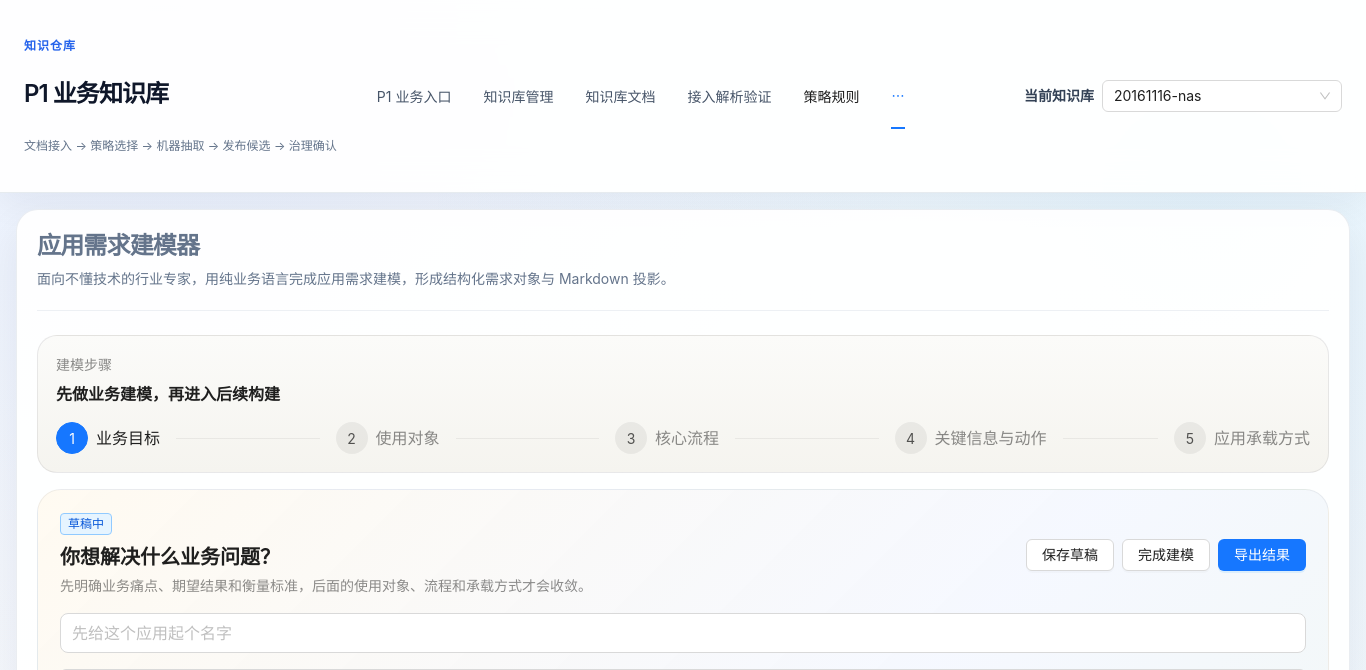
Test case: renders application modeler, switches steps, saves draft, and exports markdown
The width and height of the screenshot is (1366, 670).
Expected: the heading "应用需求建模器" is shown, [37, 231, 199, 260]
Expected: the text "业务目标" is shown, [96, 422, 176, 454]
Type "审批协同应用" into the field with placeholder "先给这个应用起个名字" at (683, 633), box [60, 613, 1306, 653]
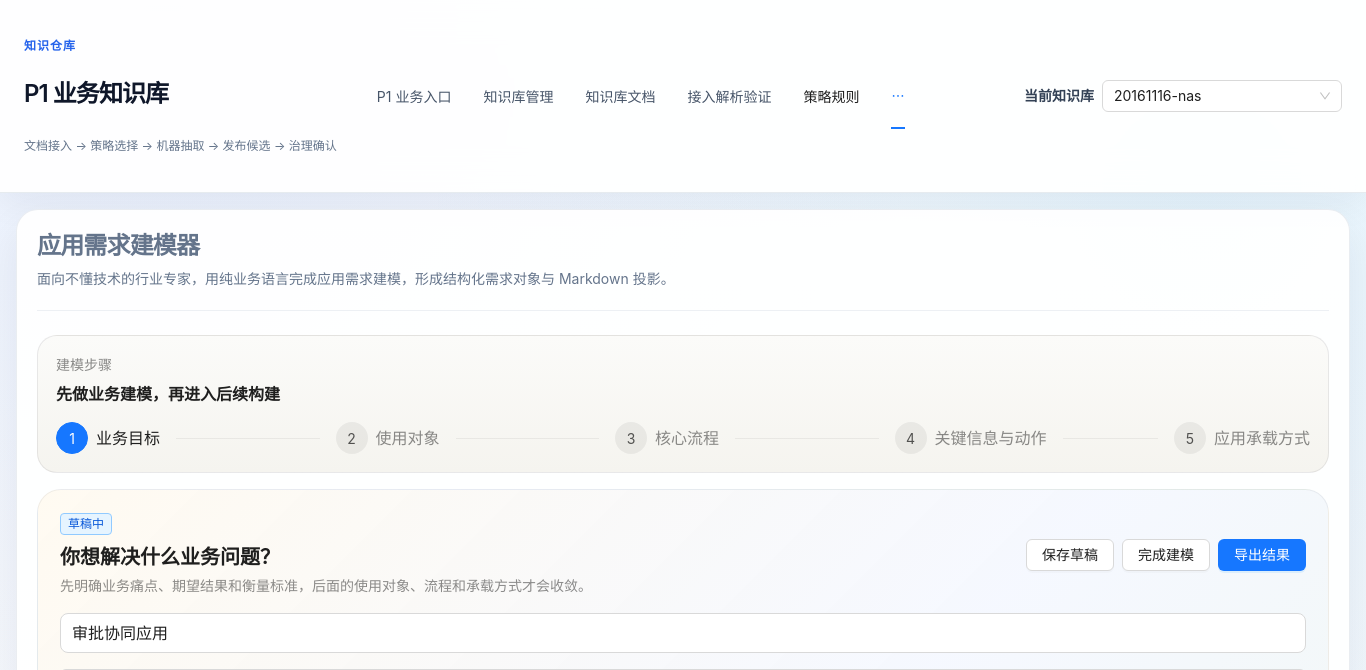
Click the text "使用对象" at (416, 438), box [376, 422, 456, 454]
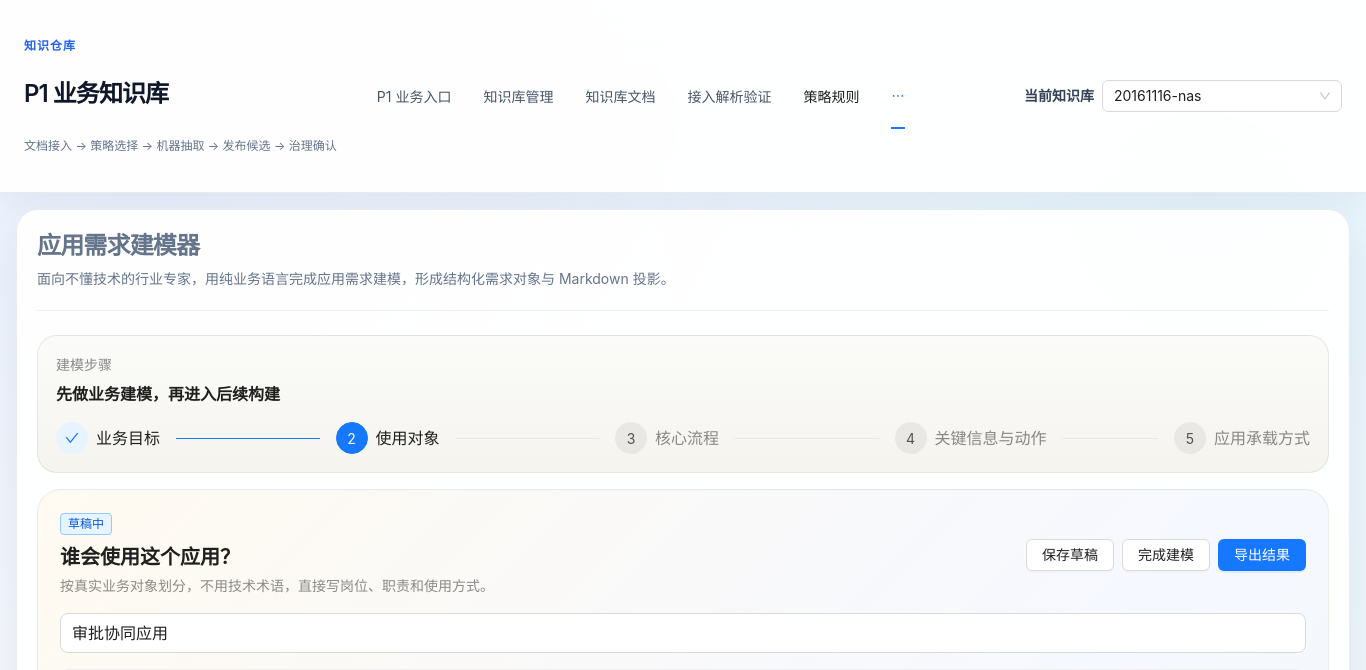
Now the heading "谁会使用这个应用？" is shown, box [60, 545, 240, 569]
Click the button "保存草稿" at (1070, 554), box [1026, 538, 1114, 570]
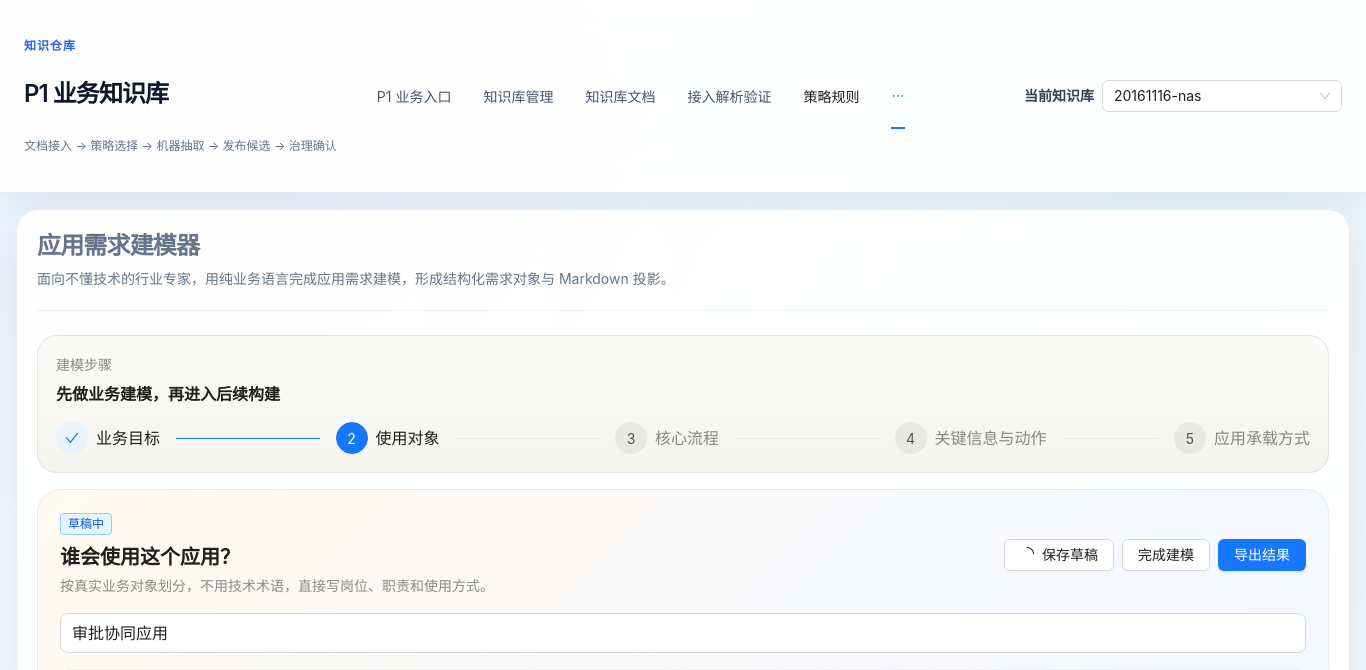
Click the button "导出结果" at (1262, 554), box [1218, 538, 1306, 570]
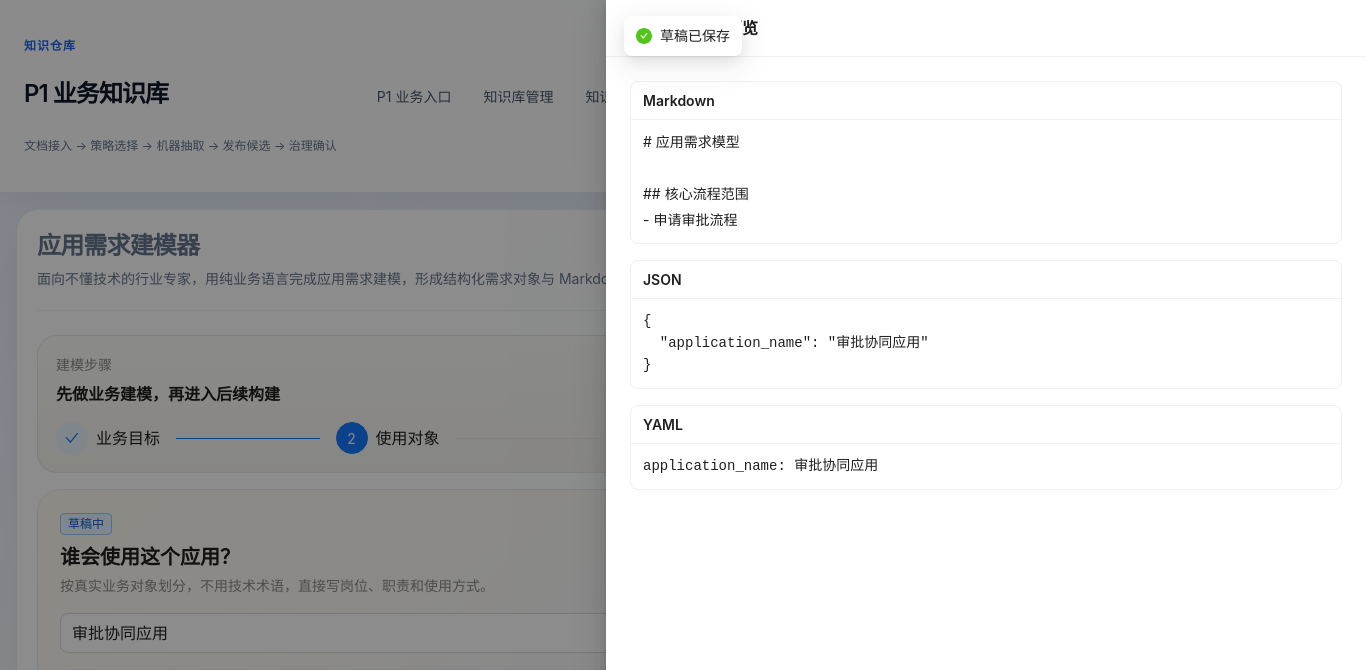
Now the text "导出结果预览" is shown, box [662, 18, 758, 38]
Now the text "## 核心流程范围" is shown, box [643, 185, 749, 202]
